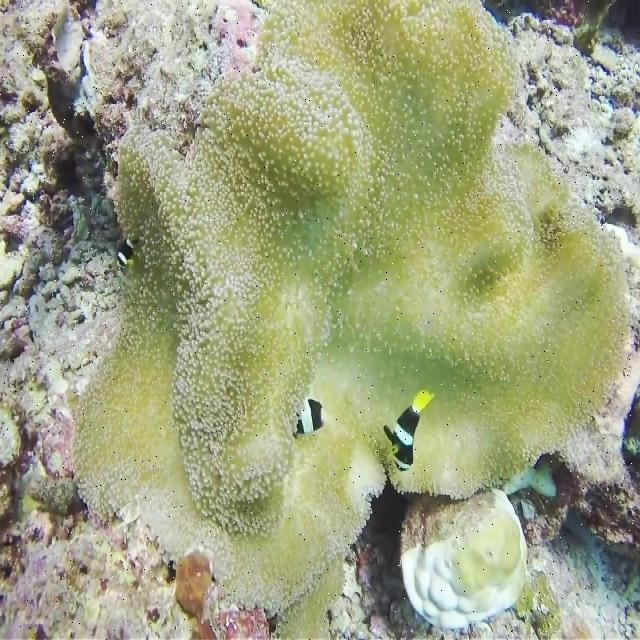fish: (384, 390, 433, 471), (296, 400, 323, 435), (117, 238, 135, 269)
reefs: (73, 2, 637, 639)
